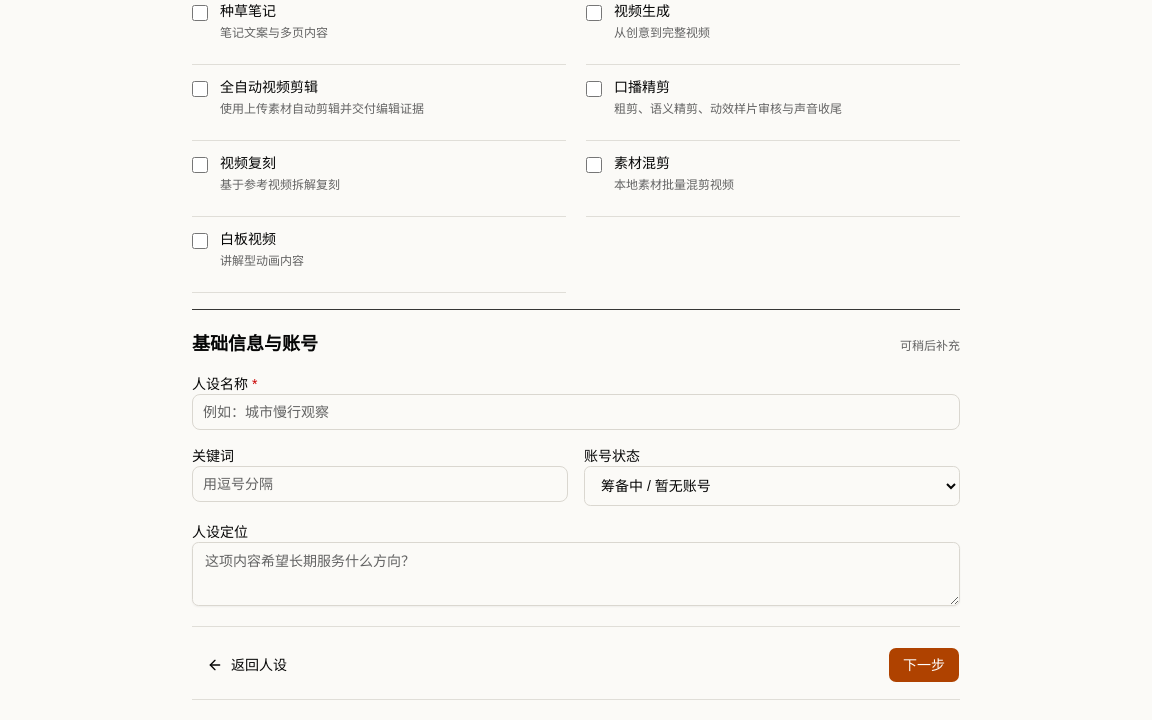
Scenario: ProfileLabPage › uses a simple single-column workspace with a four-step progress line
(page scrolled)
In the field labelled "人设名称": [576, 412] box [192,394,960,430], type "简洁人设"
(page scrolled)
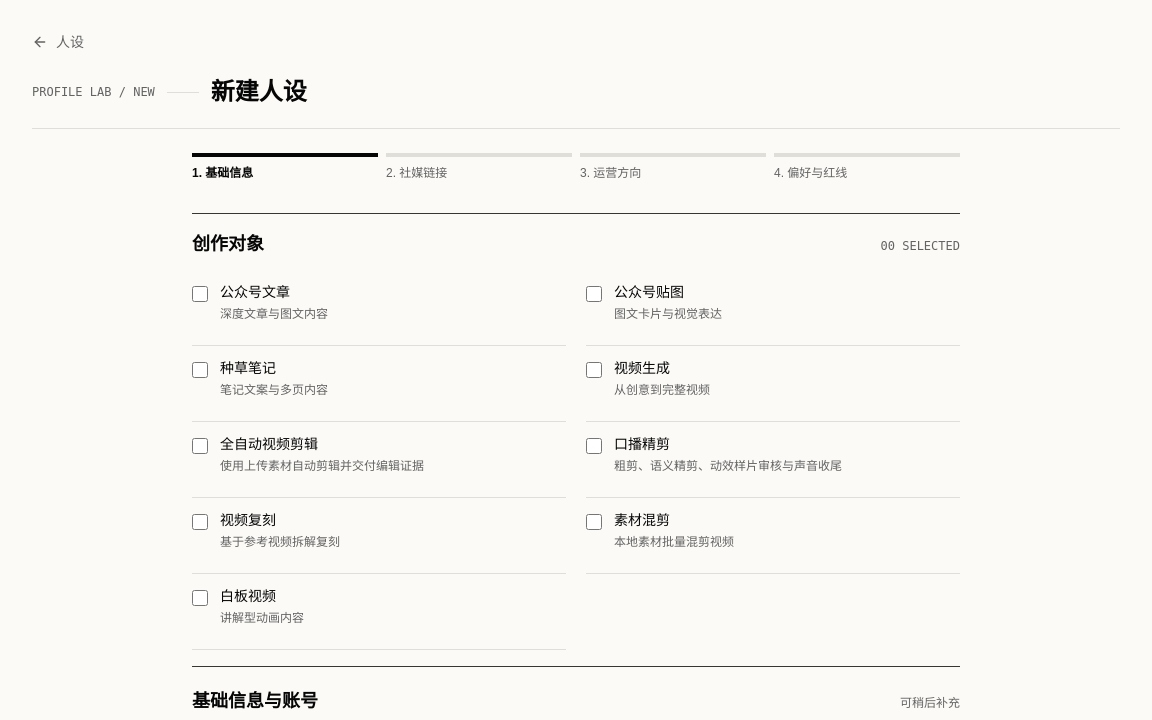
Click the checkbox labelled "公众号文章": [200, 294] box [192,286,208,302]
(page scrolled)
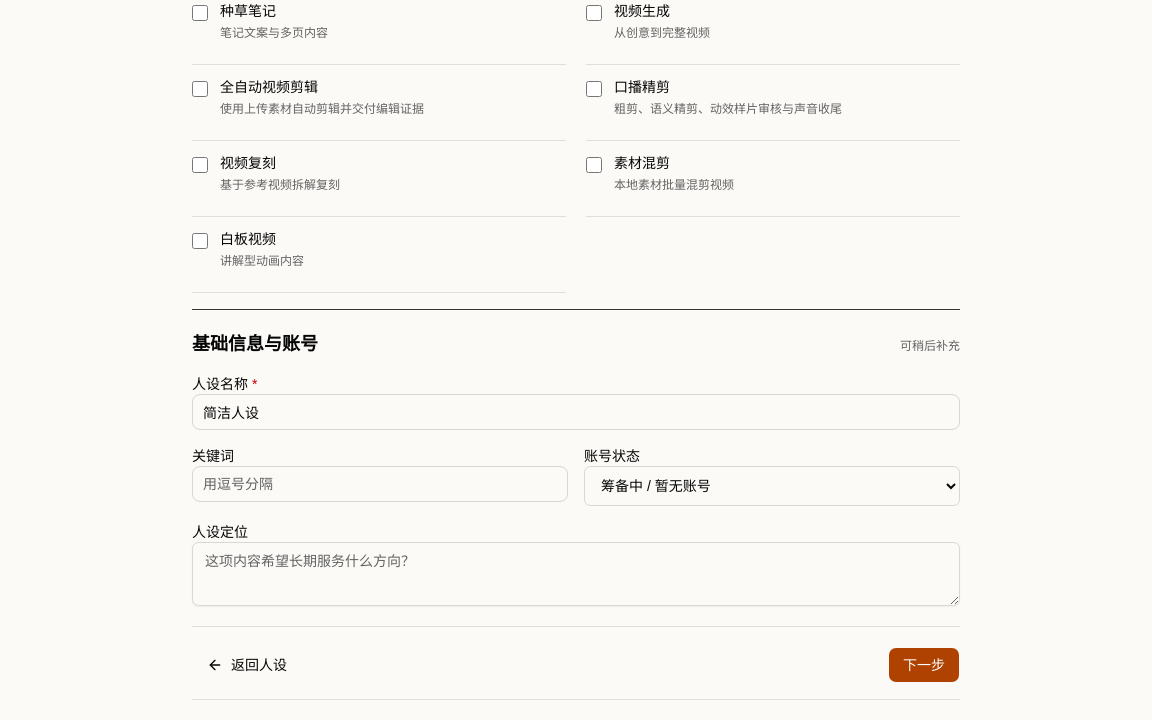
Click the button "下一步": [924, 665] box [888,647,960,683]
(page scrolled)
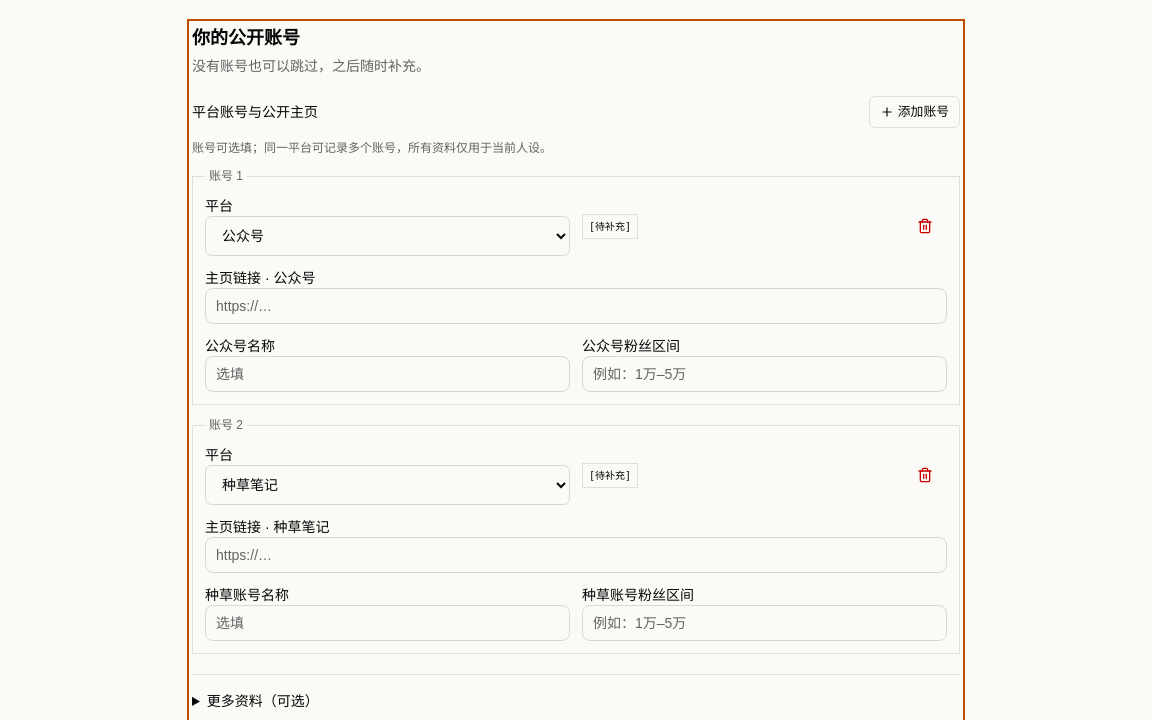
Expected: the heading "你的公开账号" is shown, [192,28,300,48]
